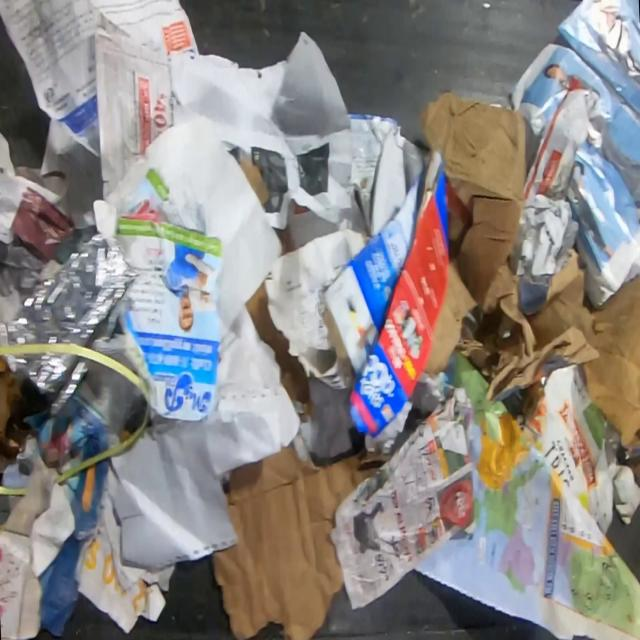cardboard: (321, 90, 526, 438), (209, 439, 393, 640), (515, 353, 640, 535), (580, 271, 640, 451)
rigid_plastic: (0, 234, 138, 348), (0, 352, 91, 414)
